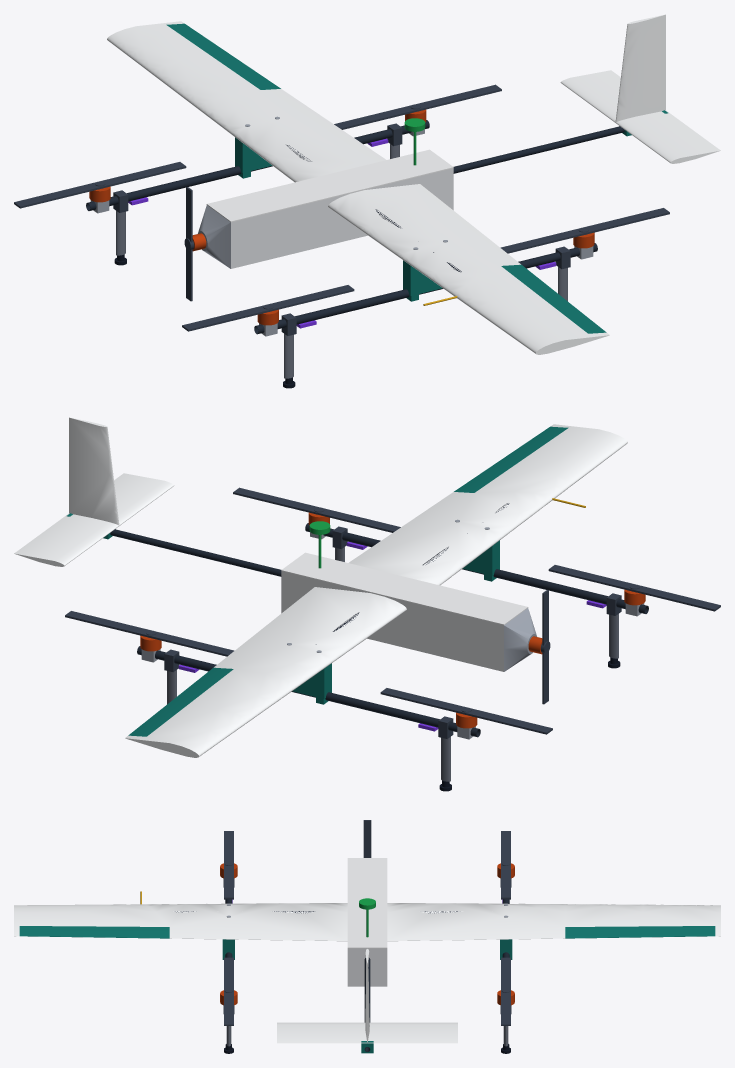
3 views of the same model, one above another, from view 1: azimuth 30°, elevation 25°; view 2: azimuth 150°, elevation 25°; view 3: azimuth 270°, elevation 25° (orthographic). The views are drawn at different scales.
Parts seen in each view (by area): view 1: Wing panels with ailerons (×4), Fuselage box, Lift propellers (×2), Hatch, Horizontal stabiliser with elevator, Fin with rudder, Lift booms (×2), Boom pylons (×2), Nose cone and cruise motor mount, Tail boom, Cruise folding propeller, Landing legs (clamp, rod, fairing, foot); view 2: Wing panels with ailerons (×4), Fuselage box, Lift propellers (×2), Hatch, Horizontal stabiliser with elevator, Fin with rudder, Lift booms (×2), Boom pylons (×2), Nose cone and cruise motor mount, Tail boom, Cruise folding propeller, Landing legs (clamp, rod, fairing, foot); view 3: Wing panels with ailerons (×4), Horizontal stabiliser with elevator, Hatch, Lift propellers (×2), Fuselage box.
Boxes of the visible parts, left/top/right/bottom form: Wing panels with ailerons (×4): left=107, top=21, right=609, bottom=354; Fuselage box: left=231, top=168, right=453, bottom=268; Lift propellers (×2): left=14, top=84, right=669, bottom=331; Hatch: left=206, top=149, right=453, bottom=222; Horizontal stabiliser with elevator: left=560, top=70, right=720, bottom=163; Fin with rudder: left=615, top=14, right=665, bottom=122; Lift booms (×2): left=86, top=120, right=597, bottom=334; Boom pylons (×2): left=235, top=137, right=442, bottom=295; Nose cone and cruise motor mount: left=198, top=205, right=230, bottom=268; Tail boom: left=453, top=126, right=624, bottom=173; Cruise folding propeller: left=184, top=187, right=194, bottom=301; Landing legs (clamp, rod, fairing, foot): left=284, top=267, right=567, bottom=378; Wing panels with ailerons (×4): left=125, top=424, right=627, bottom=757; Fuselage box: left=281, top=571, right=503, bottom=671; Lift propellers (×2): left=65, top=487, right=720, bottom=734; Hatch: left=281, top=552, right=528, bottom=625; Horizontal stabiliser with elevator: left=14, top=473, right=174, bottom=566; Fin with rudder: left=69, top=417, right=119, bottom=525; Lift booms (×2): left=137, top=523, right=648, bottom=737; Boom pylons (×2): left=292, top=540, right=499, bottom=698; Nose cone and cruise motor mount: left=504, top=608, right=536, bottom=671; Tail boom: left=110, top=529, right=281, bottom=576; Cruise folding propeller: left=540, top=590, right=550, bottom=704; Landing legs (clamp, rod, fairing, foot): left=167, top=670, right=450, bottom=781; Wing panels with ailerons (×4): left=14, top=903, right=720, bottom=941; Horizontal stabiliser with elevator: left=277, top=1022, right=457, bottom=1043; Hatch: left=347, top=858, right=387, bottom=948; Lift propellers (×2): left=224, top=831, right=510, bottom=1025; Fuselage box: left=347, top=948, right=387, bottom=986.
Size of the model in its own units: 1.9 by 0.6345 by 2.5.
